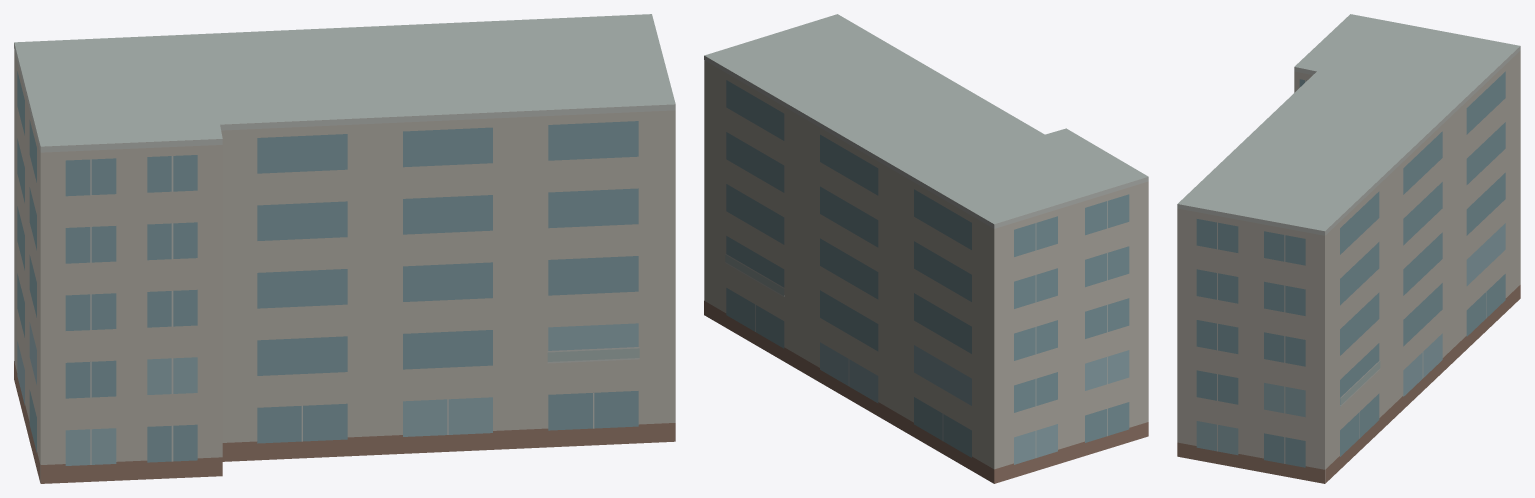
File: survey-upis-33002202.glb
3 renders of one model, left to right at view 1: azimuth 30°, elevation 25°; view 2: azimuth 150°, elevation 25°; view 3: azimuth 270°, elevation 25°, orthographic. The views are drawn at different scales.
Parts seen in each view (by area): view 1: survey-upis-33002202.tmp; view 2: survey-upis-33002202.tmp; view 3: survey-upis-33002202.tmp.
Boxes of the visible parts, x1=… form: survey-upis-33002202.tmp: x1=14, y1=14, x2=675, y2=483; survey-upis-33002202.tmp: x1=704, y1=14, x2=1148, y2=483; survey-upis-33002202.tmp: x1=1177, y1=14, x2=1520, y2=483.
Size of the model in its own units: 25.19 by 13.65 by 16.81.
